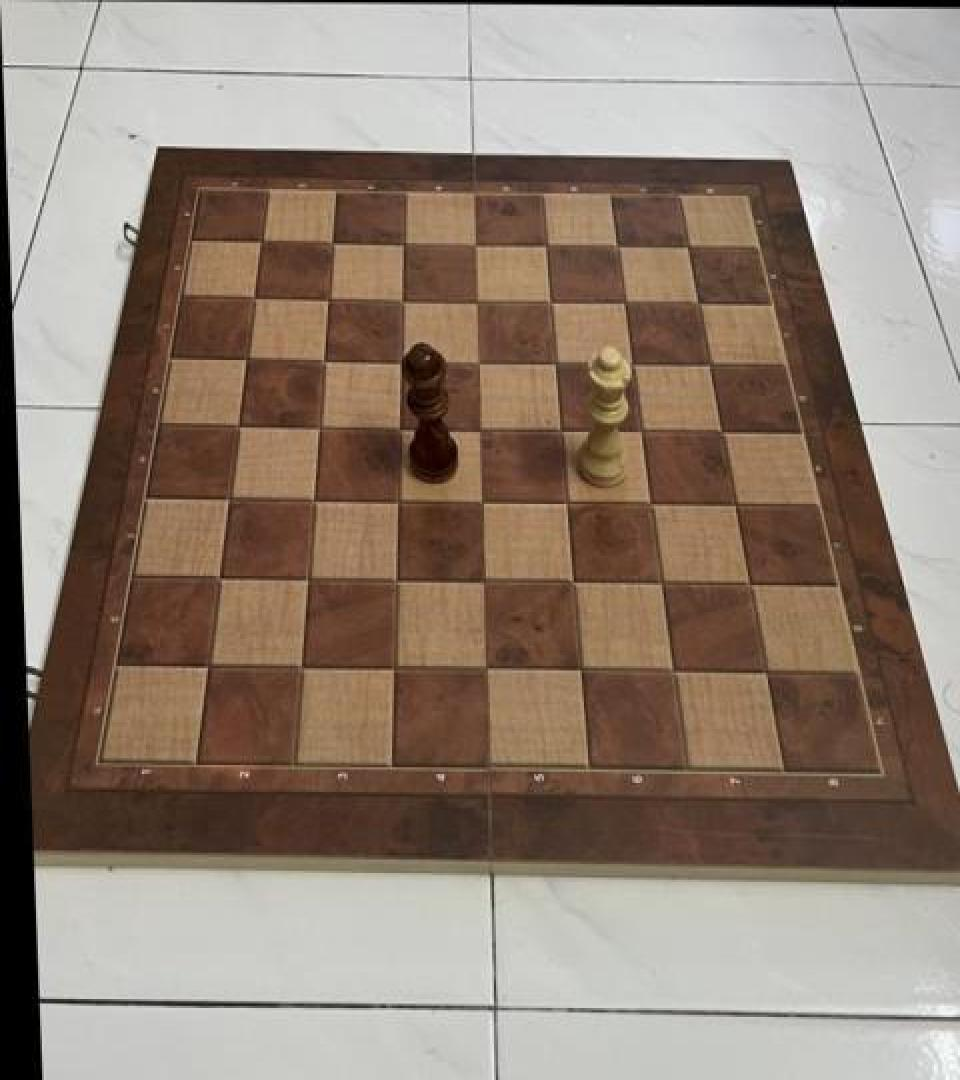xcorner: (746, 652, 778, 689), (671, 230, 703, 266), (600, 228, 632, 264), (529, 228, 561, 264), (458, 227, 490, 263), (387, 227, 419, 263), (316, 226, 348, 262), (245, 226, 277, 262), (681, 286, 713, 322), (607, 284, 639, 320), (533, 284, 565, 320), (459, 284, 491, 320), (386, 284, 418, 320), (312, 282, 344, 318), (238, 282, 270, 318), (692, 346, 724, 382), (615, 346, 647, 382), (538, 346, 570, 382), (461, 346, 493, 382), (384, 344, 416, 380), (308, 343, 340, 379), (231, 343, 263, 379), (704, 413, 736, 449), (623, 413, 655, 449), (543, 412, 575, 448), (463, 412, 495, 448), (383, 410, 415, 446), (303, 410, 335, 446), (223, 410, 255, 446), (717, 486, 749, 522), (633, 485, 665, 521), (549, 485, 581, 521), (465, 484, 497, 520), (381, 482, 413, 518), (298, 482, 330, 518), (214, 482, 246, 518), (731, 566, 763, 602), (643, 565, 675, 601), (555, 564, 587, 600), (467, 562, 499, 598), (380, 562, 412, 598), (292, 562, 324, 598), (204, 560, 236, 596), (654, 652, 686, 688), (562, 652, 594, 688), (470, 650, 502, 686), (378, 649, 410, 685), (286, 648, 318, 684), (194, 647, 226, 683)
